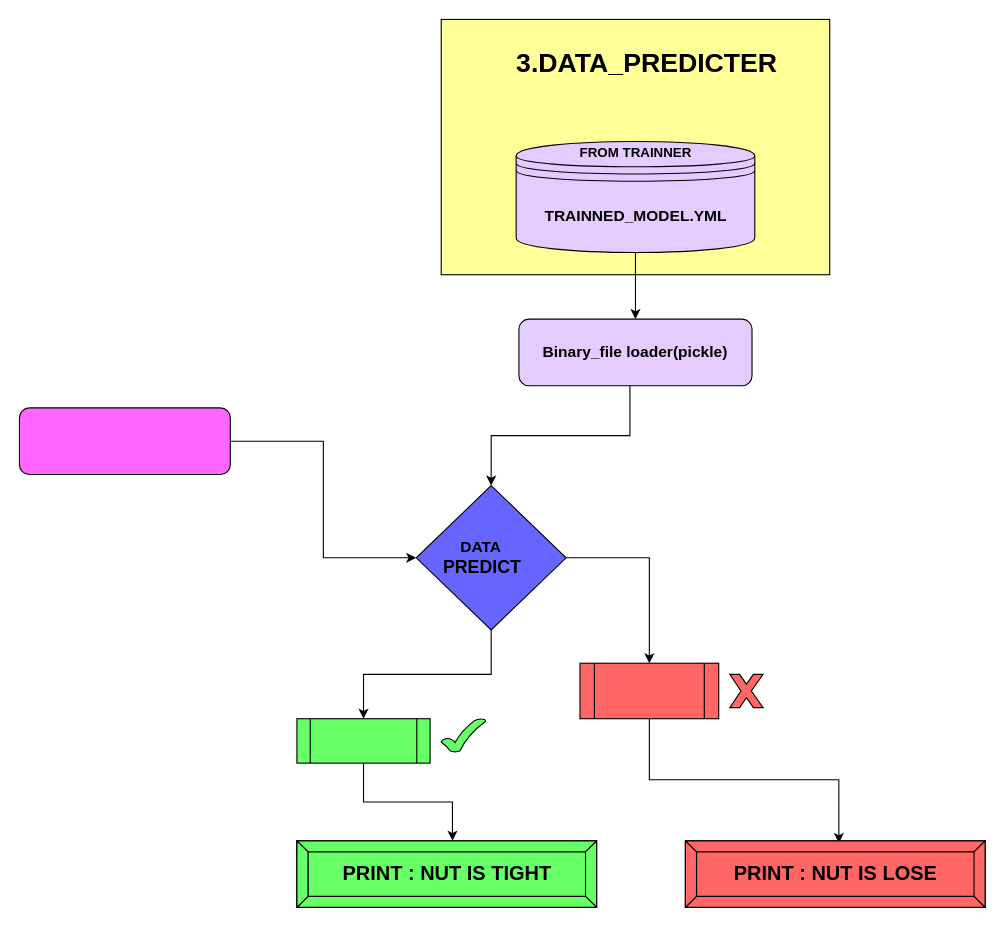
Some shapes in this 1005 by 927 pixel diagram are drawn without their labels. The centre of each missing label's shape, as x and y in pixels:
"IF FALSE(0)" belongs at (x=649, y=690).
"IF TRUE(1)" belongs at (x=363, y=740).
"IMPORT NEW_DATA_FILES" belongs at (x=124, y=441).
